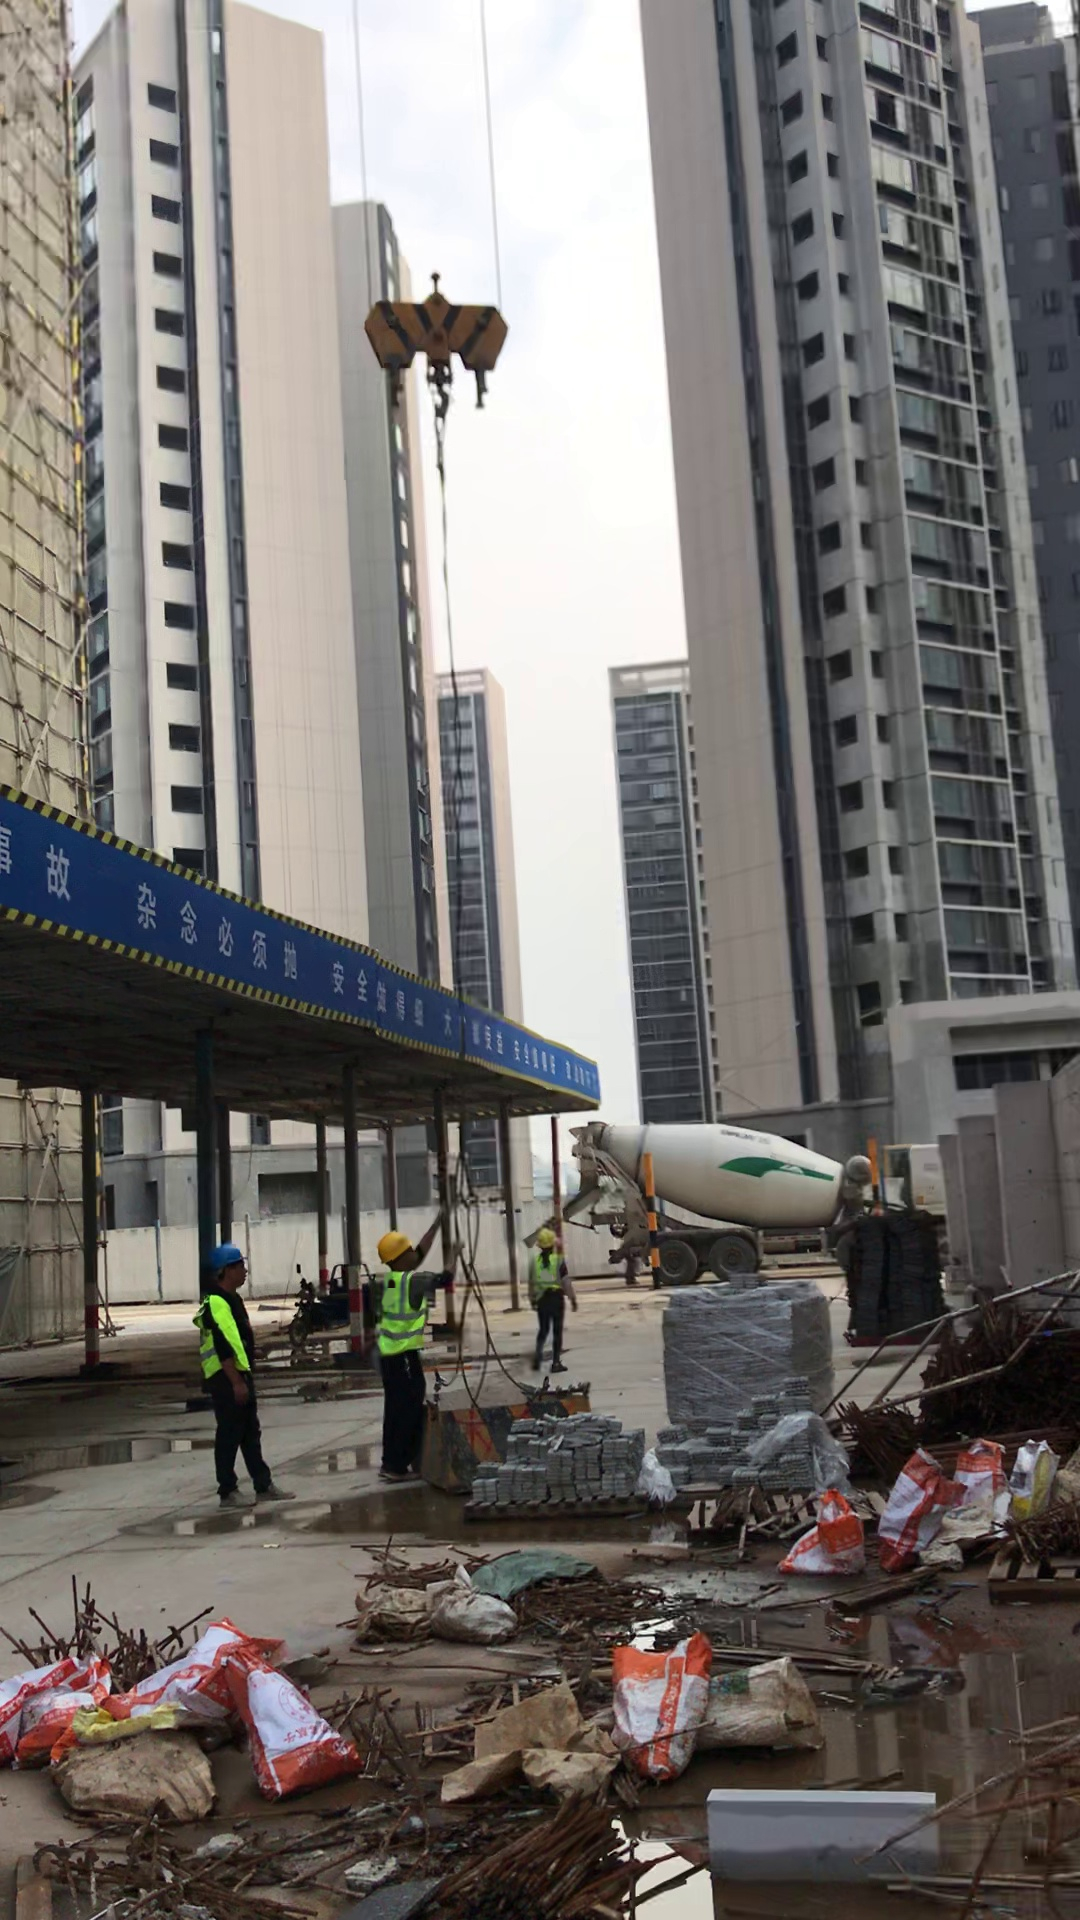helmet: (375, 1230, 414, 1260), (208, 1242, 250, 1268), (538, 1226, 562, 1248)
hook: (359, 263, 505, 411)
hopper: (422, 1385, 591, 1477)
person: (183, 1245, 307, 1512), (369, 1204, 459, 1484), (515, 1222, 581, 1377)
slogan: (16, 807, 609, 1095)
vest: (192, 1294, 257, 1371), (375, 1272, 431, 1356), (528, 1253, 568, 1293)
